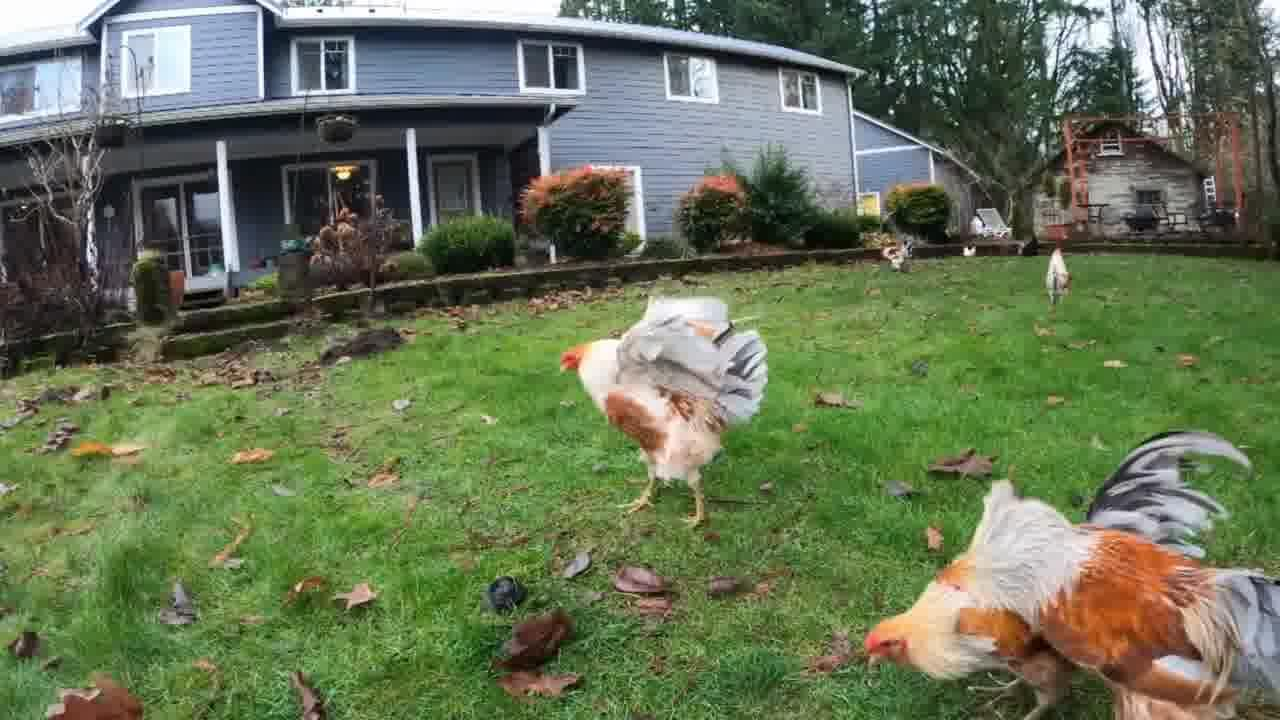Normal: (842, 426, 1280, 720), (552, 280, 794, 532)
